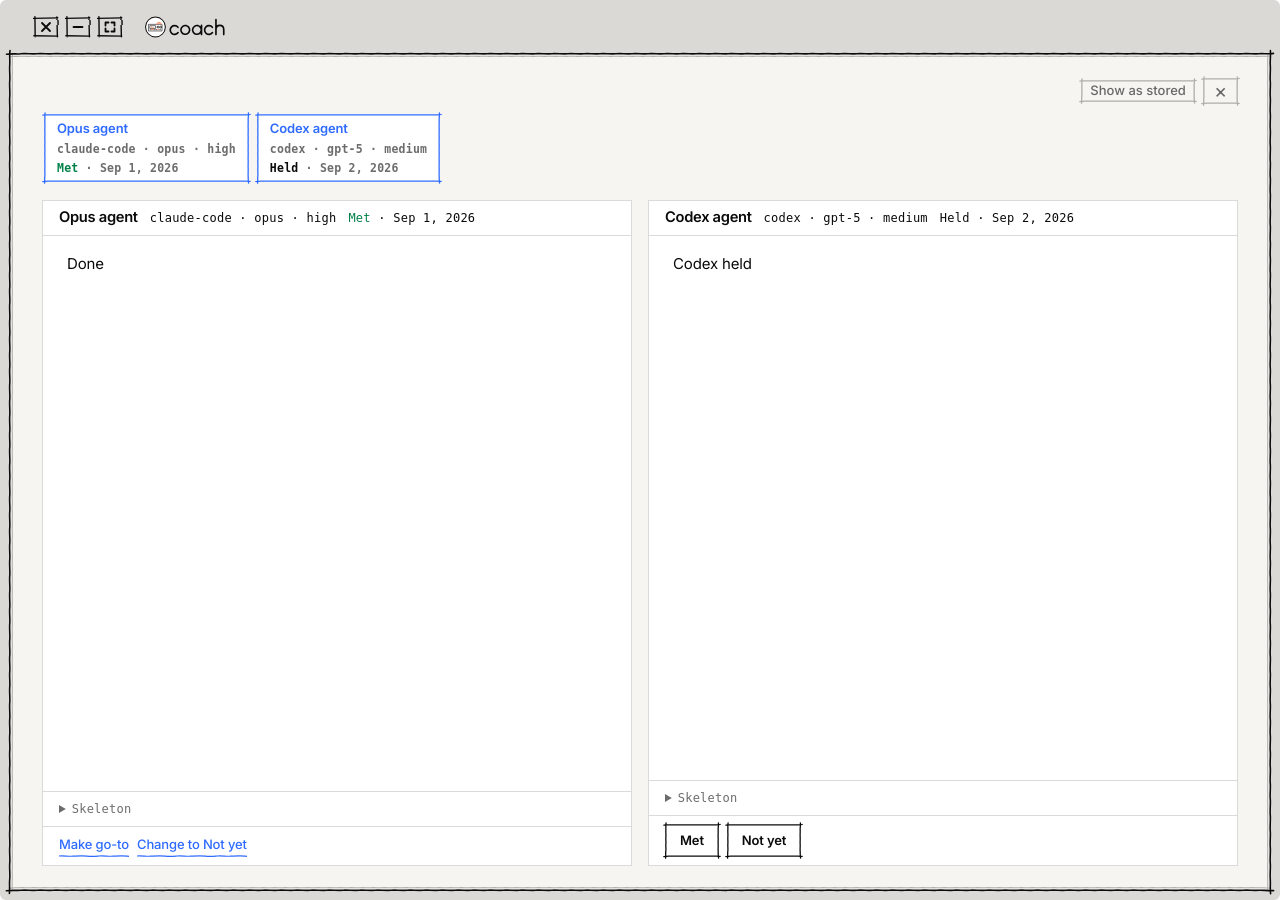
it: CompareView under a strip › Covers AE5. only a Met reply offers Make go-to; marking the held one Met records it and offers it there too
Expected: the list named "Replies" is shown, [44,114,440,182]
Expected: the button "Make go-to" is shown, [59,834,129,857]
Click the button "Met" at (692, 840), box [665,824,719,857]
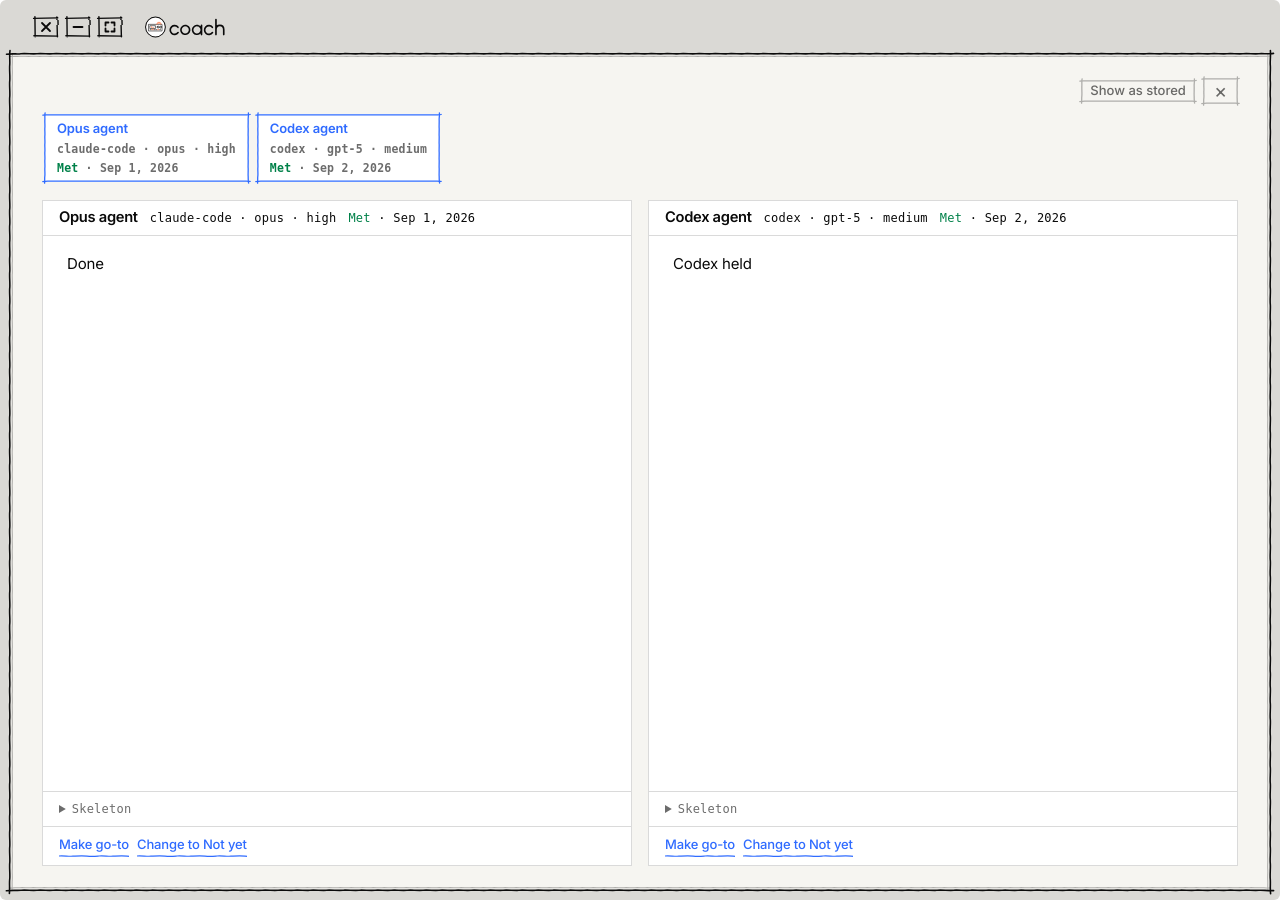
Now the 2nd button "Make go-to" is shown, box [665,834,735,857]
Now the 2nd text "Met" is shown, box [270,161,291,175]
